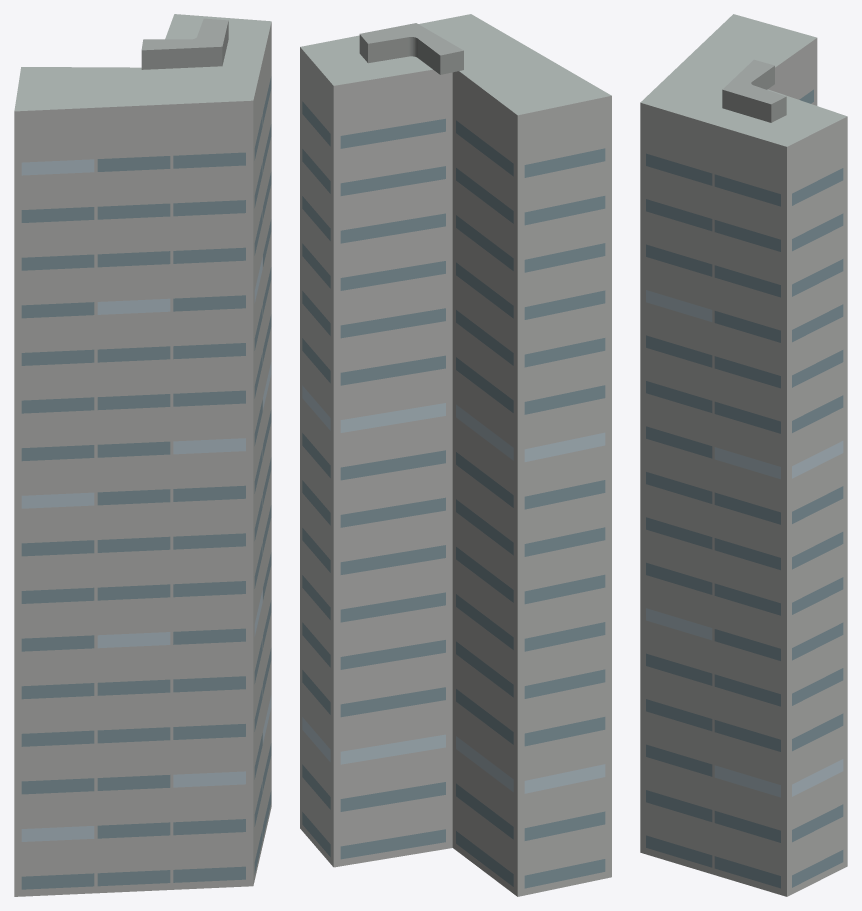
The model's file is fallback-jamsil-ricenz-204.glb.
3 renders of one model, left to right at view 1: azimuth 30°, elevation 25°; view 2: azimuth 150°, elevation 25°; view 3: azimuth 270°, elevation 25°, orthographic. The views are drawn at different scales.
Parts seen in each view (by area): view 1: fallback-jamsil-ricenz-204; view 2: fallback-jamsil-ricenz-204; view 3: fallback-jamsil-ricenz-204.
Boxes of the visible parts, x1,y1,x2,y2 form: fallback-jamsil-ricenz-204: [14, 14, 271, 896]; fallback-jamsil-ricenz-204: [300, 14, 611, 896]; fallback-jamsil-ricenz-204: [640, 14, 847, 896].
Bounding box in the file's own units: 36.72 × 99 × 24.21.
